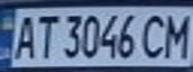0: (78, 11, 103, 60)
3: (60, 10, 84, 60)
4: (100, 10, 121, 58)
6: (115, 11, 142, 60)
A: (9, 11, 39, 61)
C: (139, 10, 172, 60)
M: (160, 10, 193, 60)
T: (33, 11, 60, 60)
